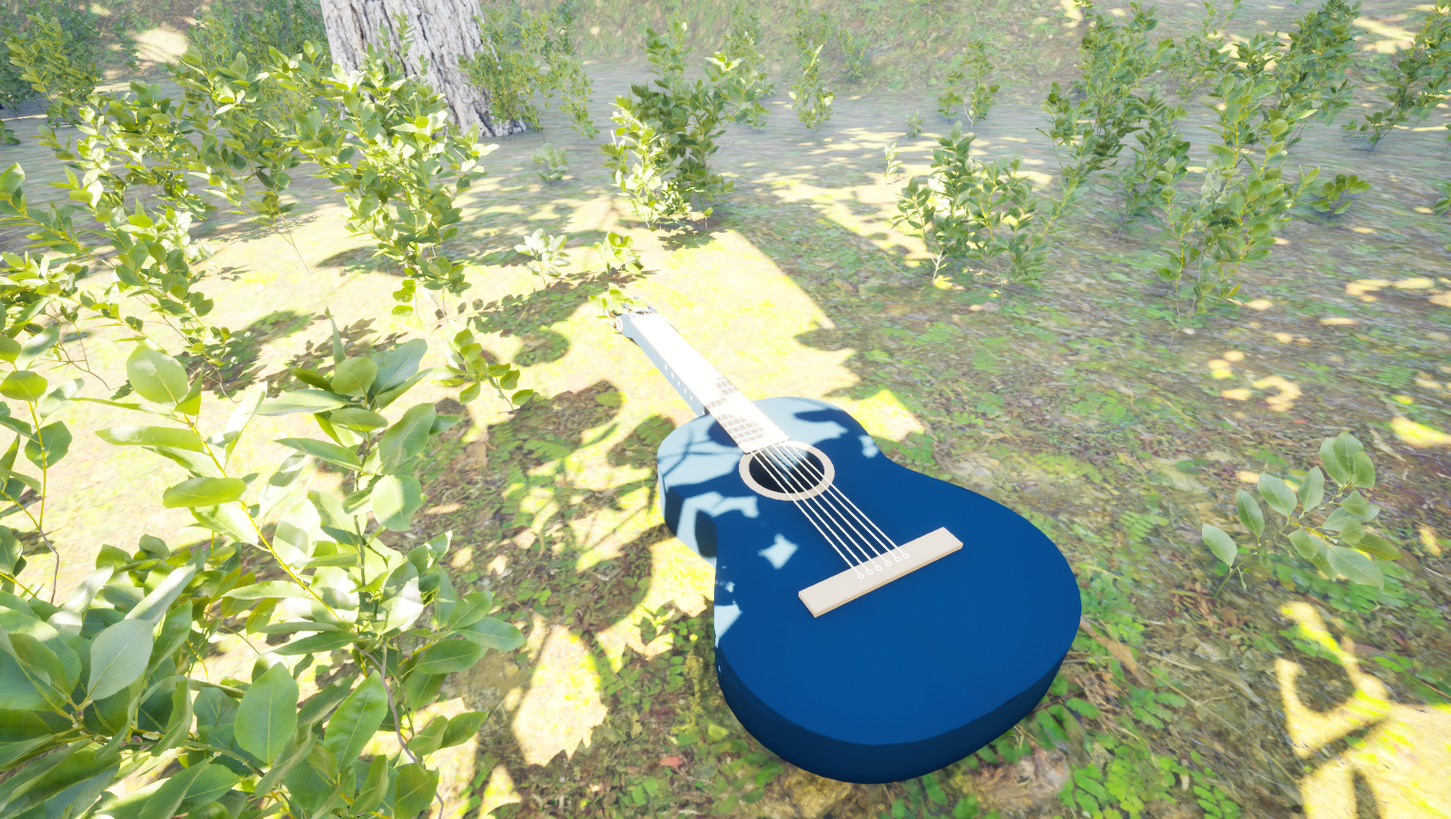Guitar: (517, 270, 1153, 819)
